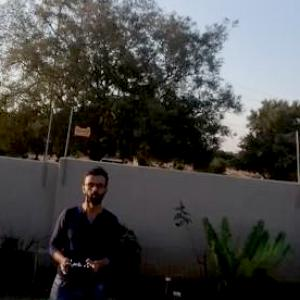follow: (40, 160, 123, 299)
